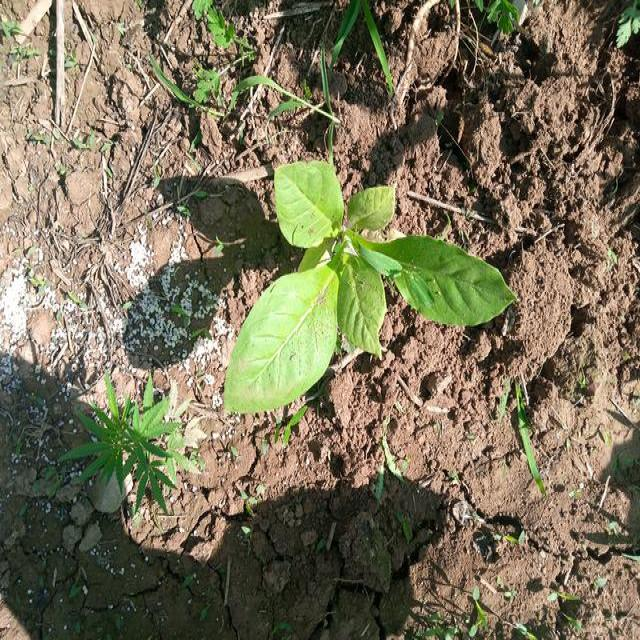crop: (226, 143, 518, 412)
